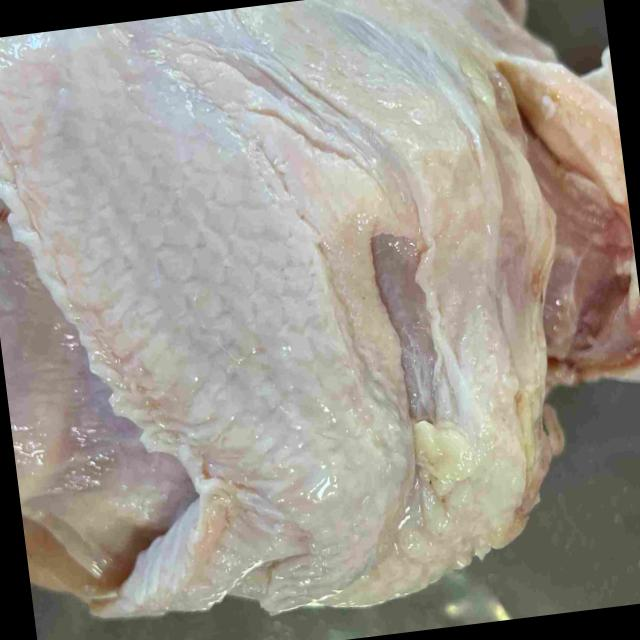wing: (0, 8, 418, 621)
